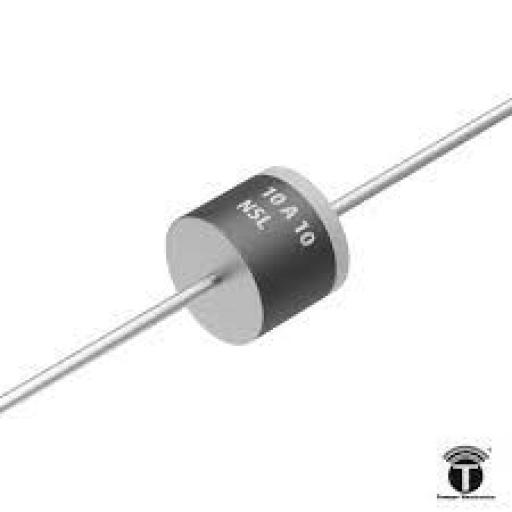DIODE: (124, 128, 426, 408)
